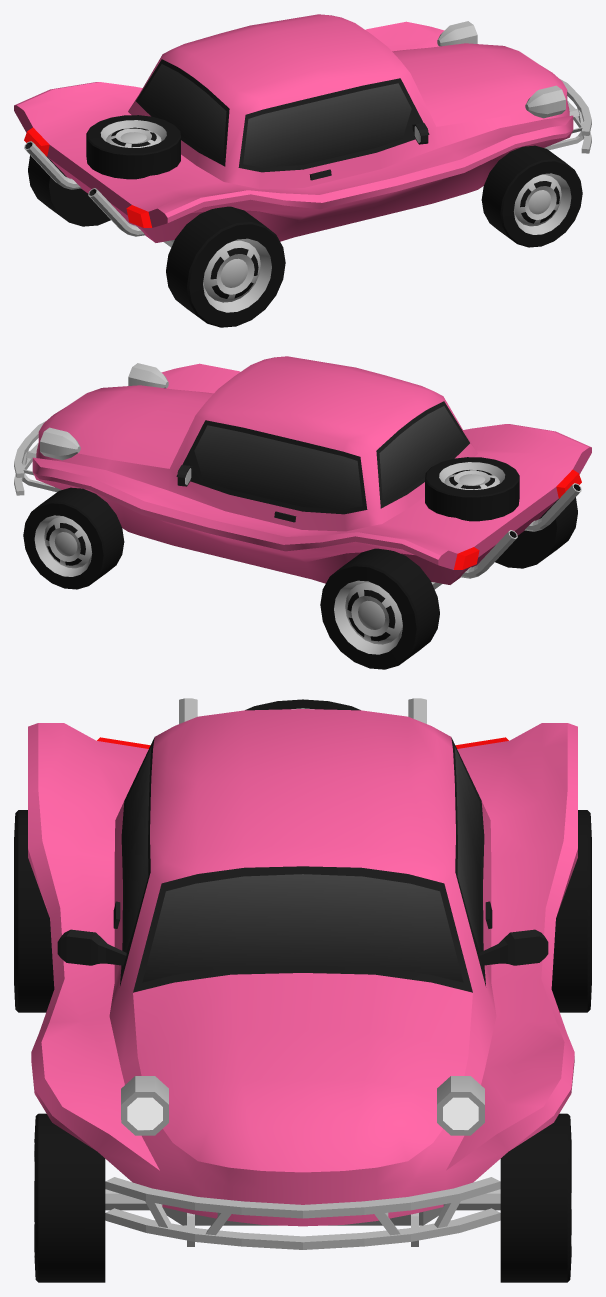
File: Car_234.glb
3 views of the same model, one above another, from view 1: azimuth 30°, elevation 25°; view 2: azimuth 150°, elevation 25°; view 3: azimuth 270°, elevation 25° (orthographic). The views are drawn at different scales.
Parts seen in each view (by area): view 1: Car_234, wheel_3_Car_234_Wheel_2R, wheel_1_Car_234_Wheel_1R, wheel_2_Car_234_Wheel_2L; view 2: Car_234, wheel_2_Car_234_Wheel_2L, wheel_0_Car_234_Wheel_1L, wheel_3_Car_234_Wheel_2R; view 3: Car_234, wheel_1_Car_234_Wheel_1R, wheel_0_Car_234_Wheel_1L, wheel_2_Car_234_Wheel_2L, wheel_3_Car_234_Wheel_2R.
Part boxes in pixels (x1=…): Car_234: x1=14, y1=14, x2=591, y2=247; wheel_3_Car_234_Wheel_2R: x1=166, y1=206, x2=285, y2=327; wheel_1_Car_234_Wheel_1R: x1=481, y1=145, x2=582, y2=247; wheel_2_Car_234_Wheel_2L: x1=28, y1=155, x2=110, y2=226; Car_234: x1=14, y1=356, x2=591, y2=589; wheel_2_Car_234_Wheel_2L: x1=320, y1=548, x2=439, y2=669; wheel_0_Car_234_Wheel_1L: x1=23, y1=487, x2=124, y2=589; wheel_3_Car_234_Wheel_2R: x1=495, y1=497, x2=577, y2=568; Car_234: x1=28, y1=698, x2=577, y2=1249; wheel_1_Car_234_Wheel_1R: x1=34, y1=1113, x2=105, y2=1282; wheel_0_Car_234_Wheel_1L: x1=500, y1=1113, x2=571, y2=1282; wheel_2_Car_234_Wheel_2L: x1=551, y1=810, x2=591, y2=1012; wheel_3_Car_234_Wheel_2R: x1=14, y1=810, x2=54, y2=1012.
Size of the model in its own units: 3.75 by 1.35 by 2.05.
2 materials, 2 textured.
